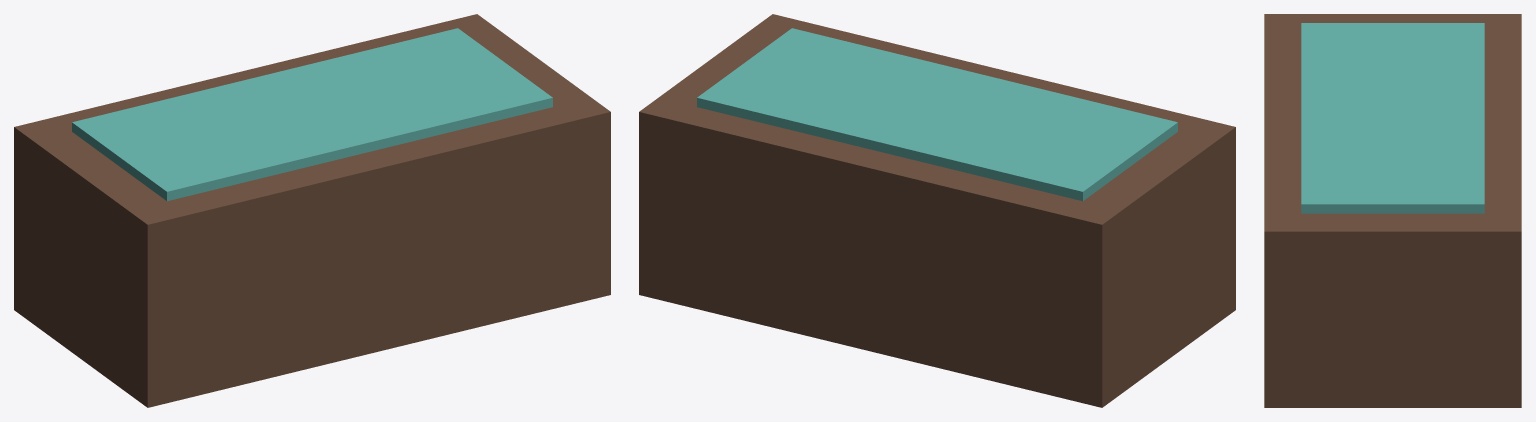
Rendered from farm-trough-lod1.glb.
3 renders of one model, left to right at view 1: azimuth 30°, elevation 25°; view 2: azimuth 150°, elevation 25°; view 3: azimuth 270°, elevation 25°, orthographic. The views are drawn at different scales.
Parts seen in each view (by area): view 1: shell, water; view 2: shell, water; view 3: shell, water.
Boxes of the visible parts, x1,y1,x2,y2 form: shell: (14, 14, 610, 407); water: (72, 28, 552, 201); shell: (639, 14, 1235, 407); water: (697, 28, 1177, 201); shell: (1264, 14, 1521, 407); water: (1301, 23, 1484, 213).
Size of the model in its own units: 0.9 by 0.3575 by 0.45.
